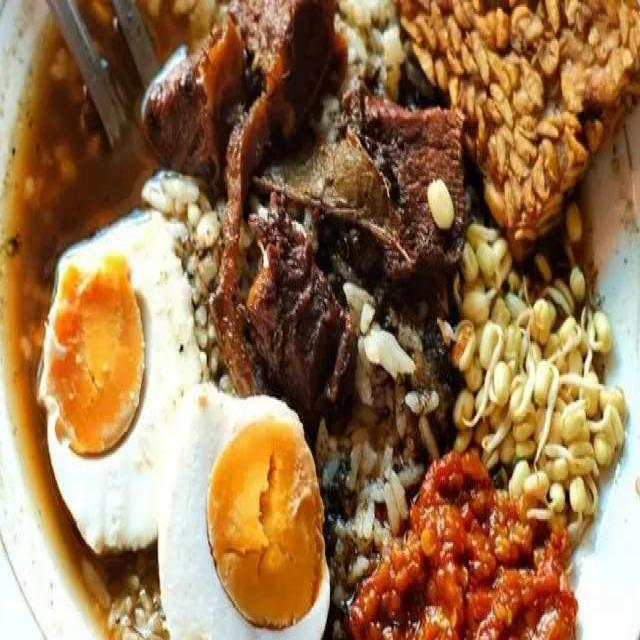Rawon: (15, 12, 492, 612)
